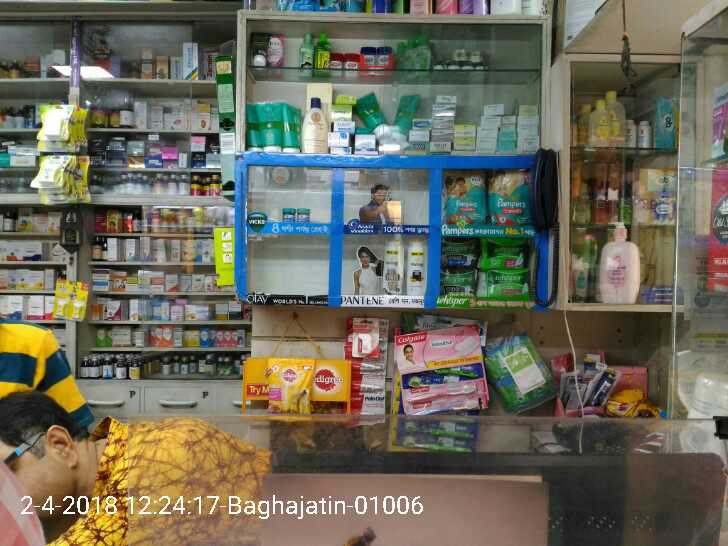oralcare: (387, 424, 478, 455)
vicks: (281, 208, 311, 224)
